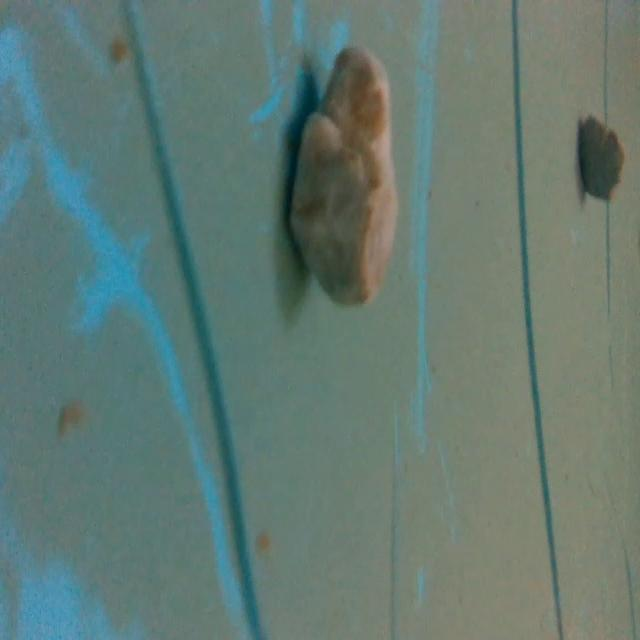rock: (279, 36, 407, 312), (575, 108, 626, 214)
